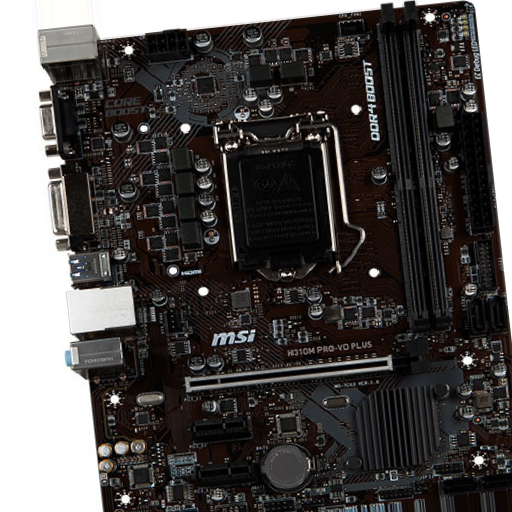CPU: (221, 110, 337, 287)
GPU: (184, 346, 432, 395)
MOTHERBOARD: (38, 4, 512, 508)
RAM: (376, 5, 450, 330)
